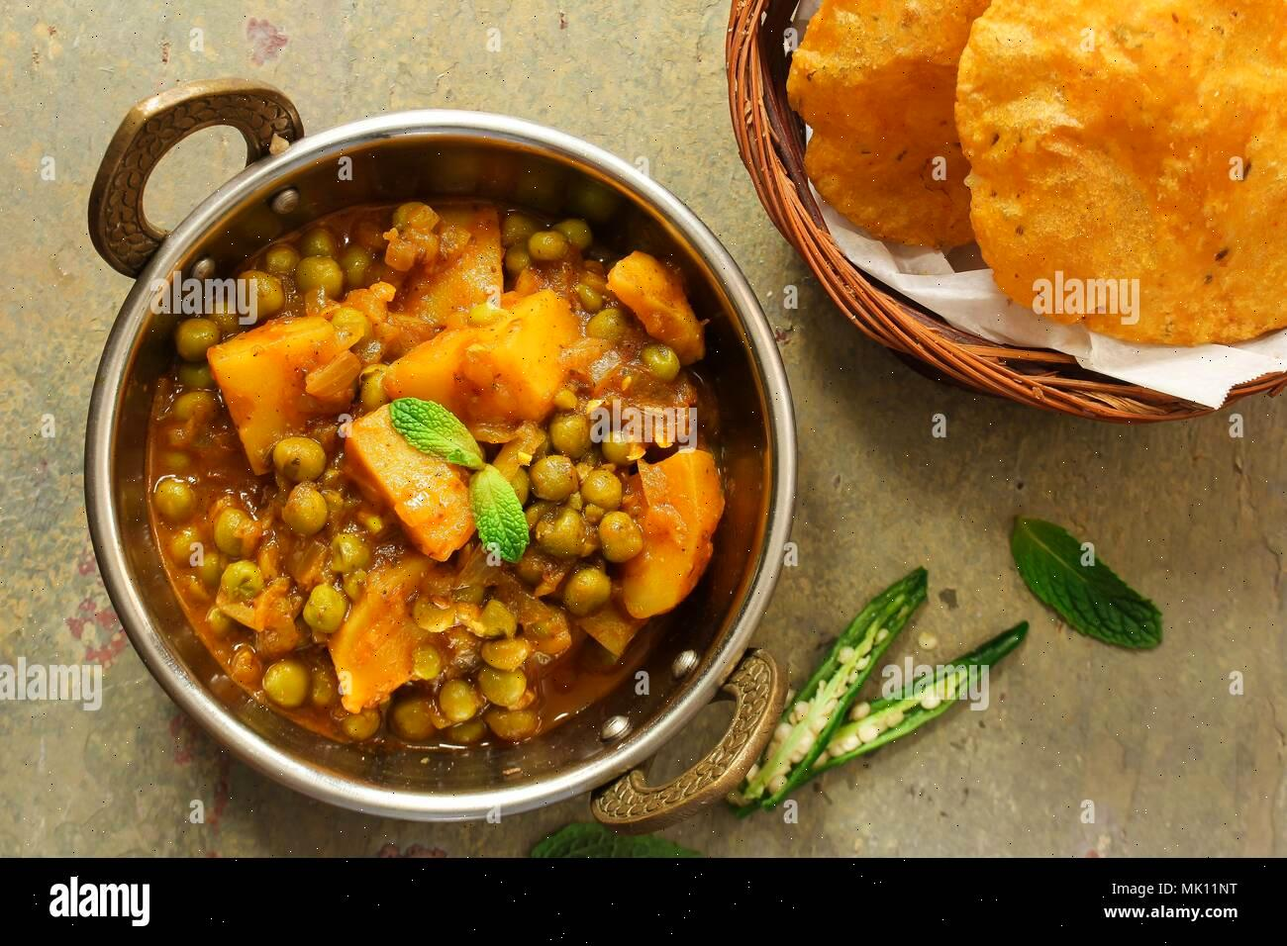puri: (792, 0, 1287, 376)
